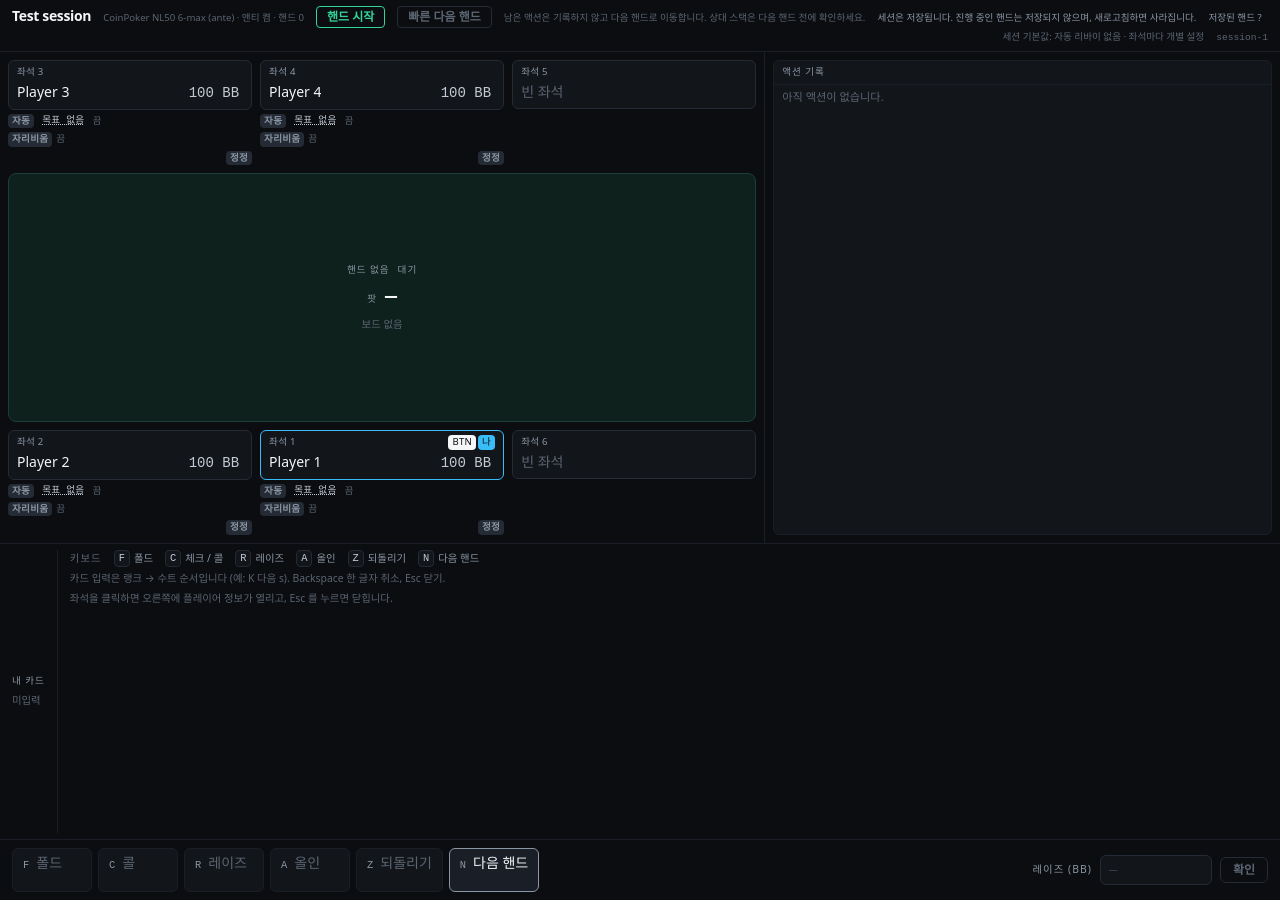
Test case: TableRoot wiring › mounts the palette and shows the hero cards it sets
Click the button with test id "start-hand" at coordinates (351, 17), box [316,6,385,28]
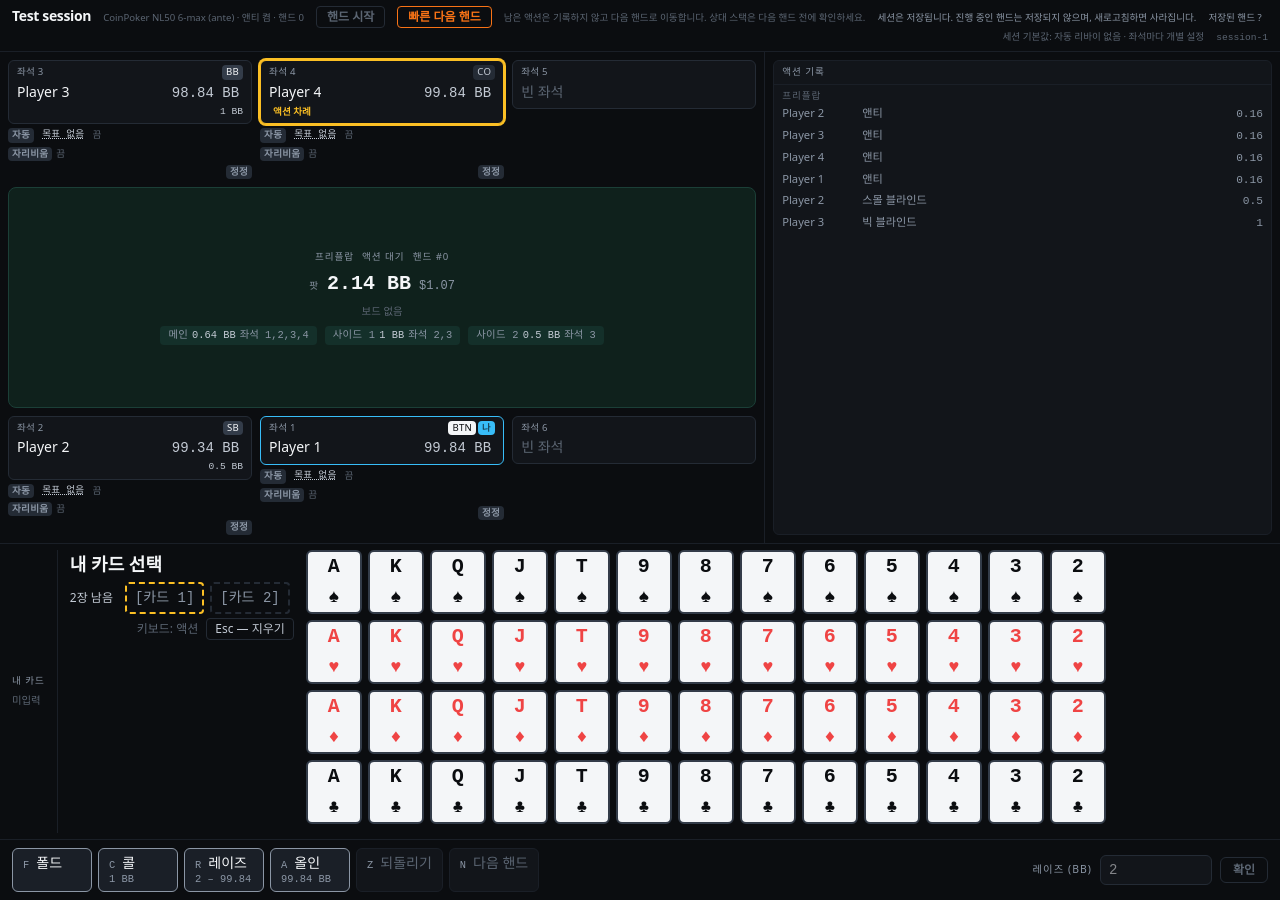
Click the button with test id "palette-As" at coordinates (334, 582), box [306,550,362,614]
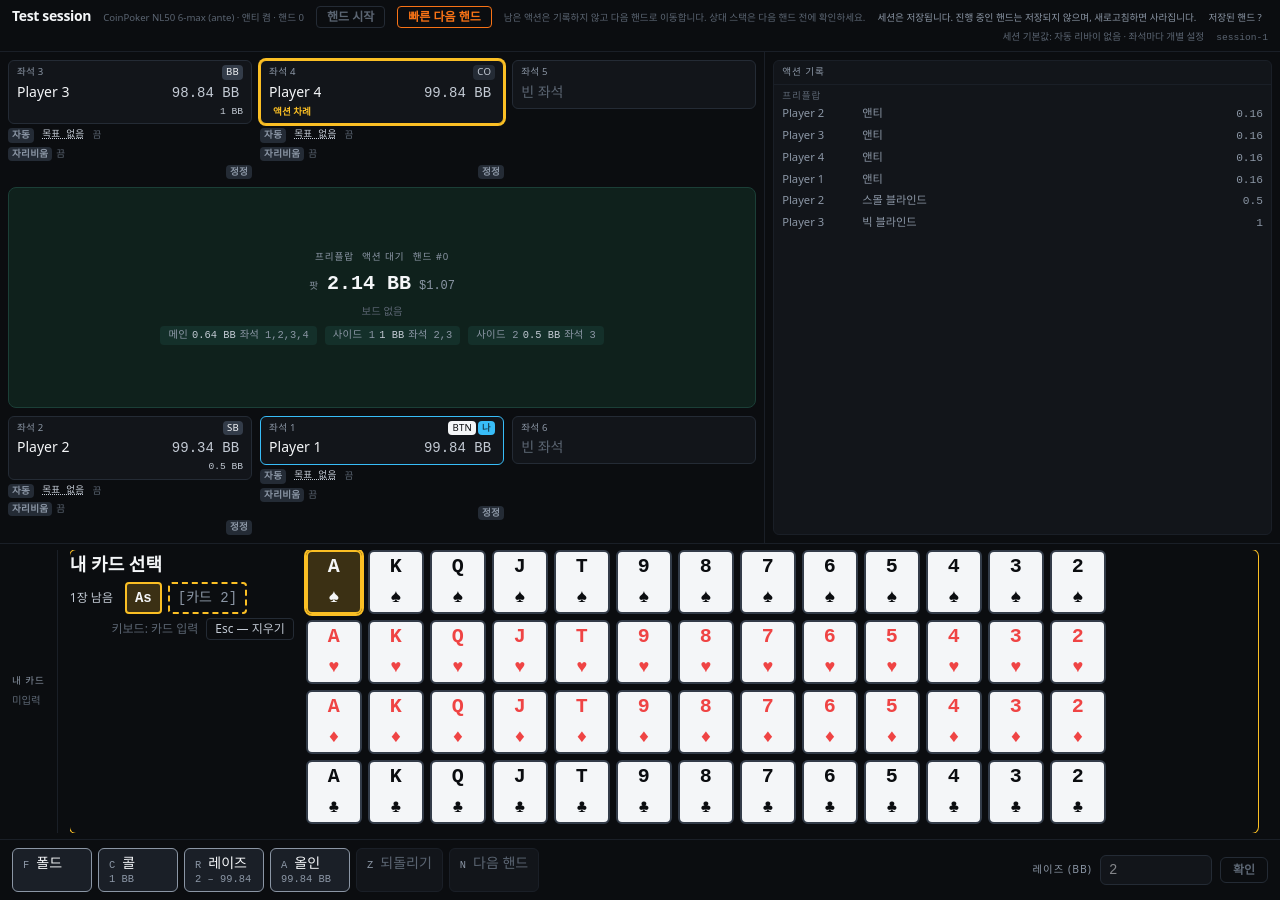
Click the button "K ♦" at coordinates (396, 722), box [368,690,424,754]
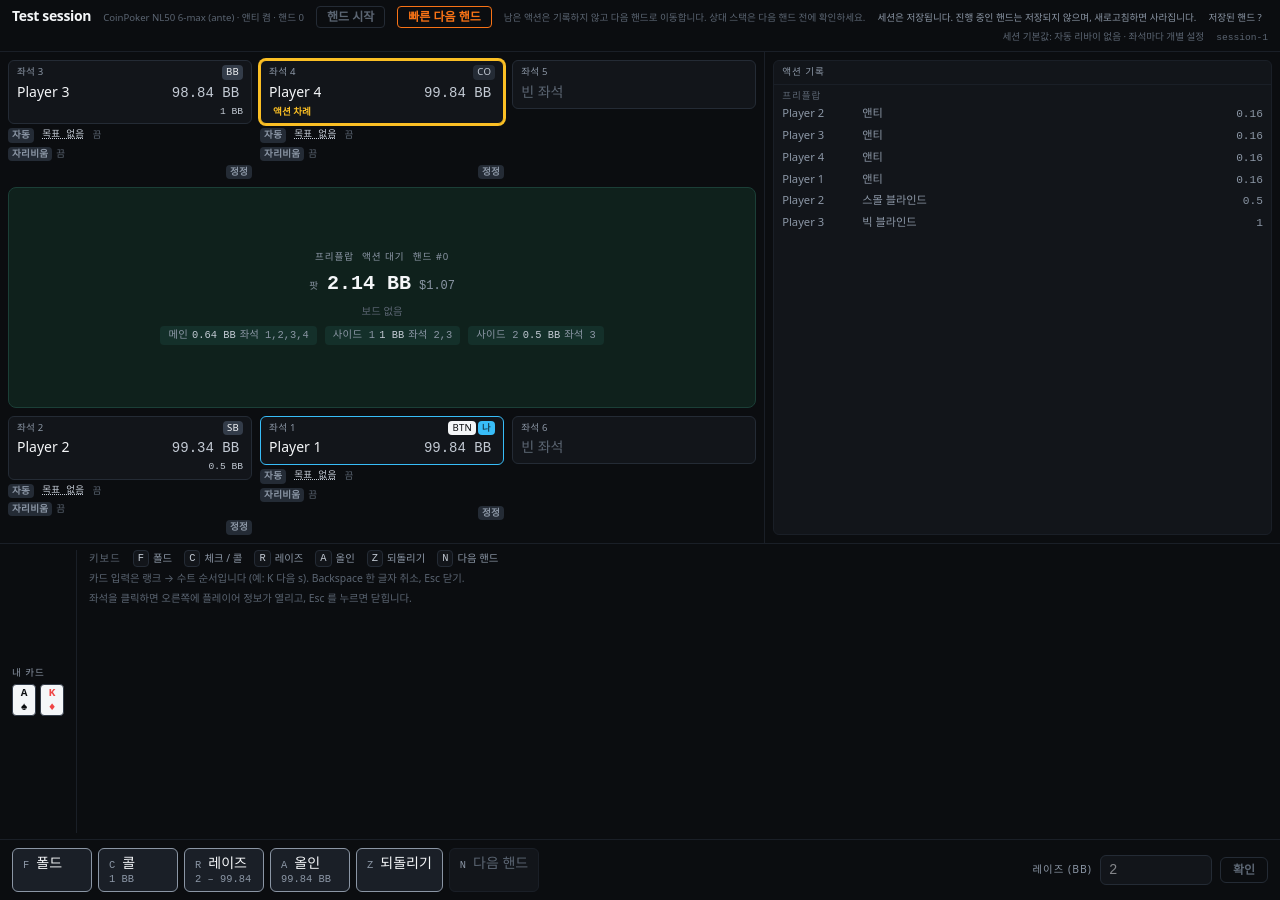
Now the element with test id "card-palette" is gone
